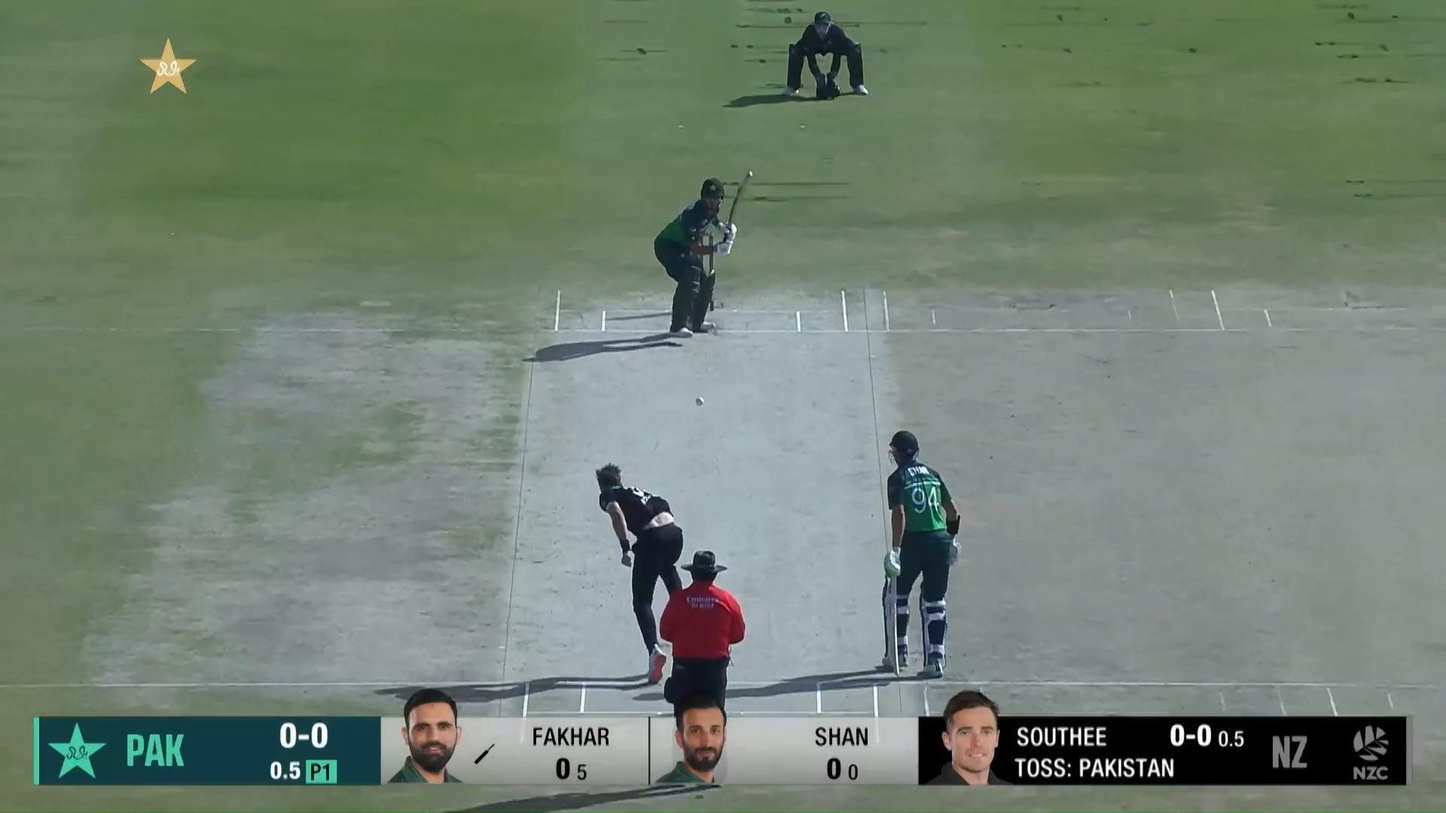BM 1: (653, 171, 754, 339)
BO: (595, 461, 684, 684)
